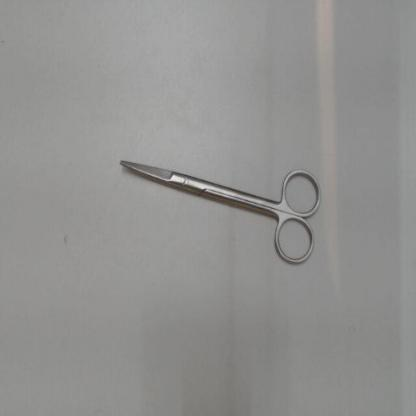Curved Mayo Scissors: (117, 155, 326, 271)
